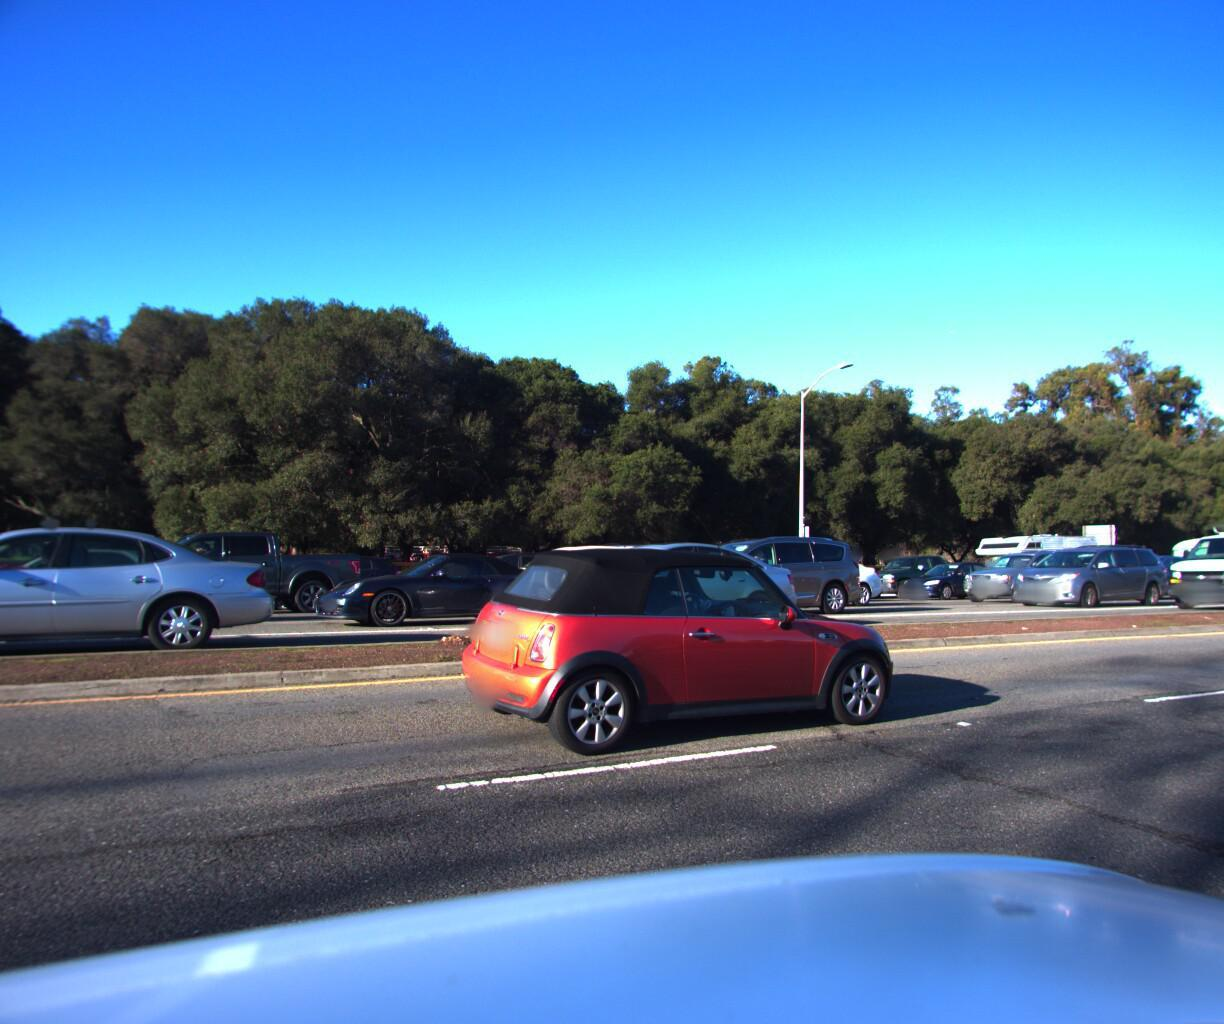car: (444, 535, 896, 760), (0, 504, 288, 670), (490, 530, 817, 634), (77, 518, 370, 616), (300, 539, 574, 628), (637, 523, 877, 617), (469, 534, 663, 607), (502, 534, 686, 607), (1002, 536, 1168, 603), (244, 546, 418, 606), (719, 547, 888, 606), (950, 539, 1093, 598), (435, 547, 588, 601), (1146, 515, 1224, 610), (1090, 548, 1204, 596), (890, 555, 1009, 596), (855, 548, 964, 592)
other_vehicle: (966, 526, 1104, 591), (1155, 522, 1224, 583)
